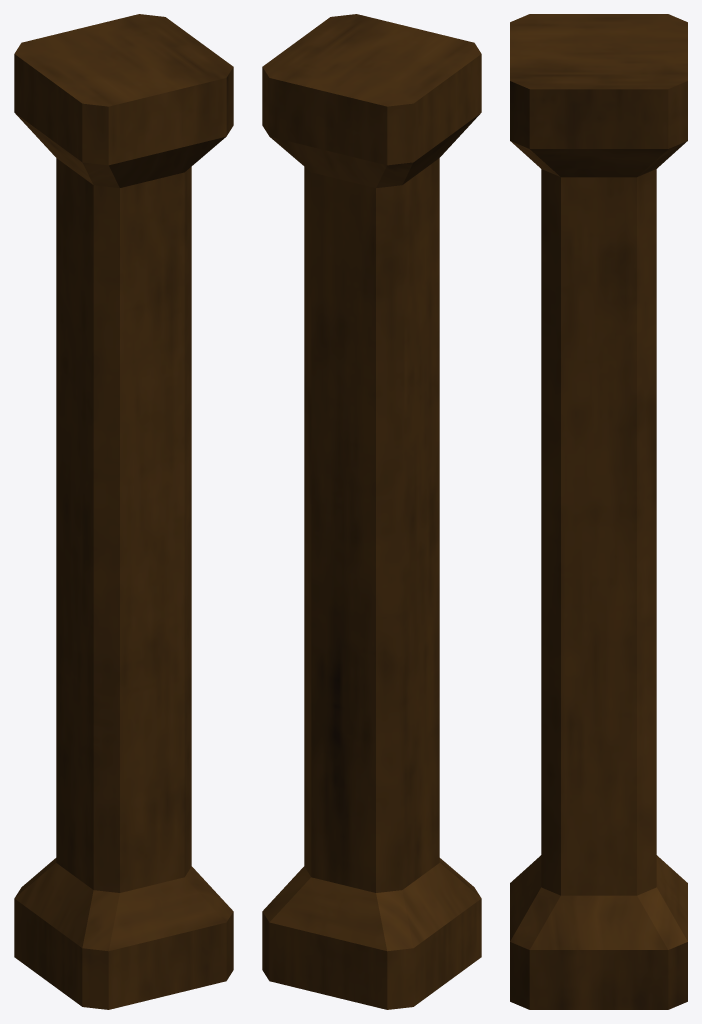
File: banister_post.fbx
3 renders of one model, left to right at view 1: azimuth 30°, elevation 25°; view 2: azimuth 150°, elevation 25°; view 3: azimuth 270°, elevation 25°, orthographic.
Visible parts, largest first — view 1: banisterPost; view 2: banisterPost; view 3: banisterPost.
Part boxes in pixels (x1,y1,x2,y2): banisterPost: [14, 14, 233, 1009]; banisterPost: [262, 14, 481, 1009]; banisterPost: [510, 14, 687, 1009].
Size of the model in its own units: 13.36 by 76.29 by 13.36.
